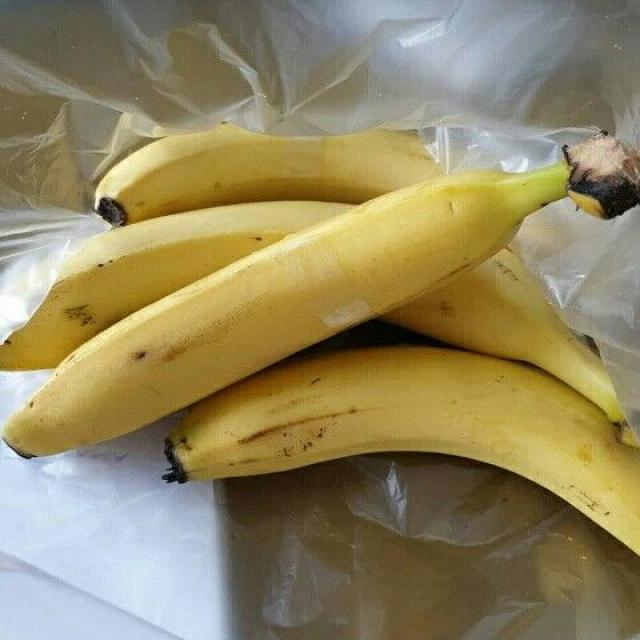unpeal banana: (4, 164, 569, 455), (3, 165, 567, 455), (166, 348, 639, 553), (0, 202, 350, 370), (0, 202, 349, 369), (384, 250, 625, 422), (95, 124, 439, 226)
